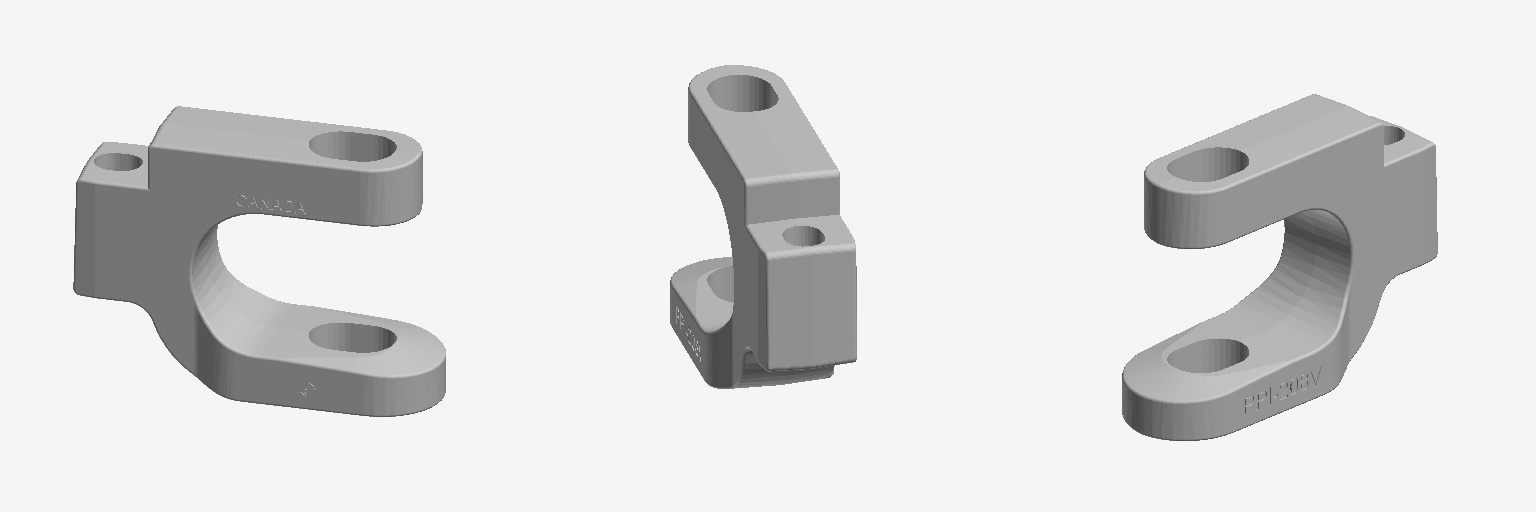
The model's file is PPI-208VR.obj.
3 renders of one model, left to right at view 1: azimuth 30°, elevation 25°; view 2: azimuth 150°, elevation 25°; view 3: azimuth 270°, elevation 25°, orthographic.
Visible parts, largest first — view 1: ppi_208vr; view 2: ppi_208vr; view 3: ppi_208vr.
Boxes of the visible parts, <box> form: ppi_208vr: <box>73,106,445,416</box>; ppi_208vr: <box>670,65,856,388</box>; ppi_208vr: <box>1122,94,1437,440</box>.
Size of the model in its own units: 65.74 by 56.5 by 66.41.